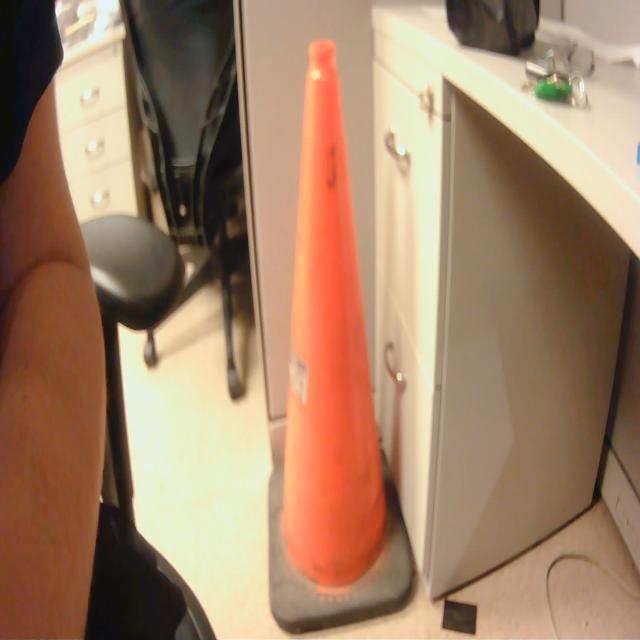traffic cone: (261, 33, 423, 640)
